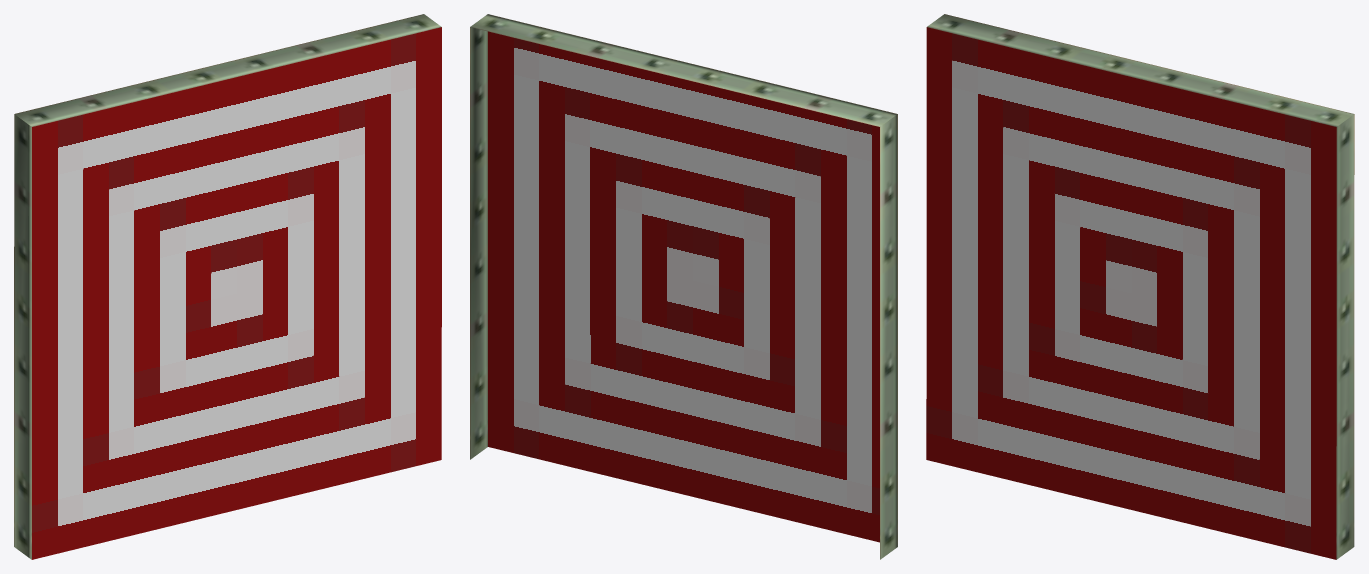
File: myd_easel_wall.dae
3 renders of one model, left to right at view 1: azimuth 30°, elevation 25°; view 2: azimuth 150°, elevation 25°; view 3: azimuth 330°, elevation 25°, orthographic.
Parts seen in each view (by area): view 1: myd_easel_wall; view 2: myd_easel_wall; view 3: myd_easel_wall.
Boxes of the visible parts, bbox=[...] form: myd_easel_wall: bbox=[14, 14, 441, 559]; myd_easel_wall: bbox=[470, 14, 897, 559]; myd_easel_wall: bbox=[926, 14, 1354, 559].
Bounding box in the file's own units: 26.51 × 26.74 × 2.
2 materials, 2 textured.
